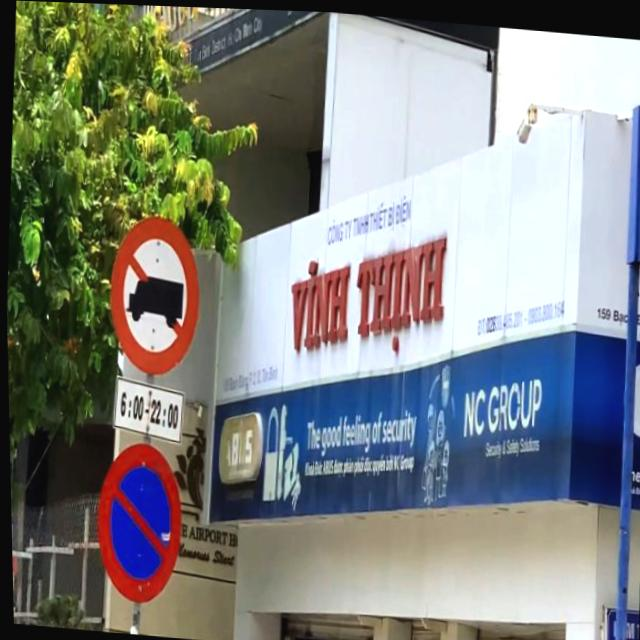Cam do xe: (89, 436, 190, 607)
Cam xe tai: (104, 208, 210, 381)
